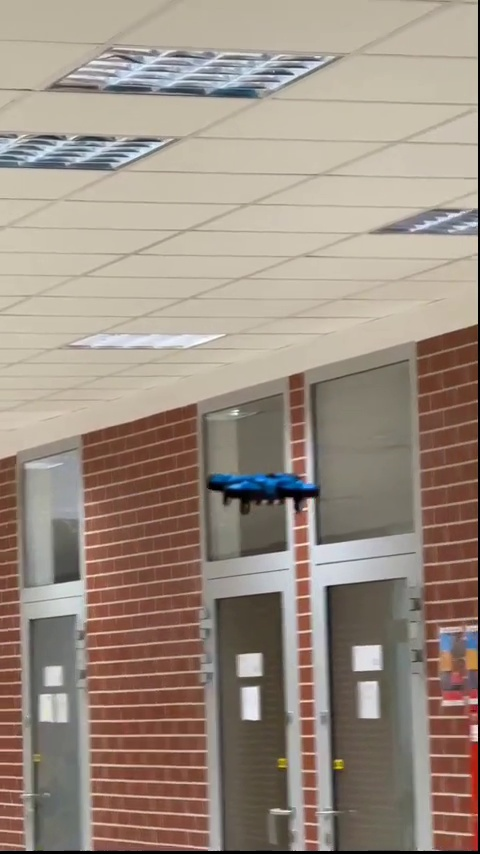drone: (208, 467, 315, 514)
